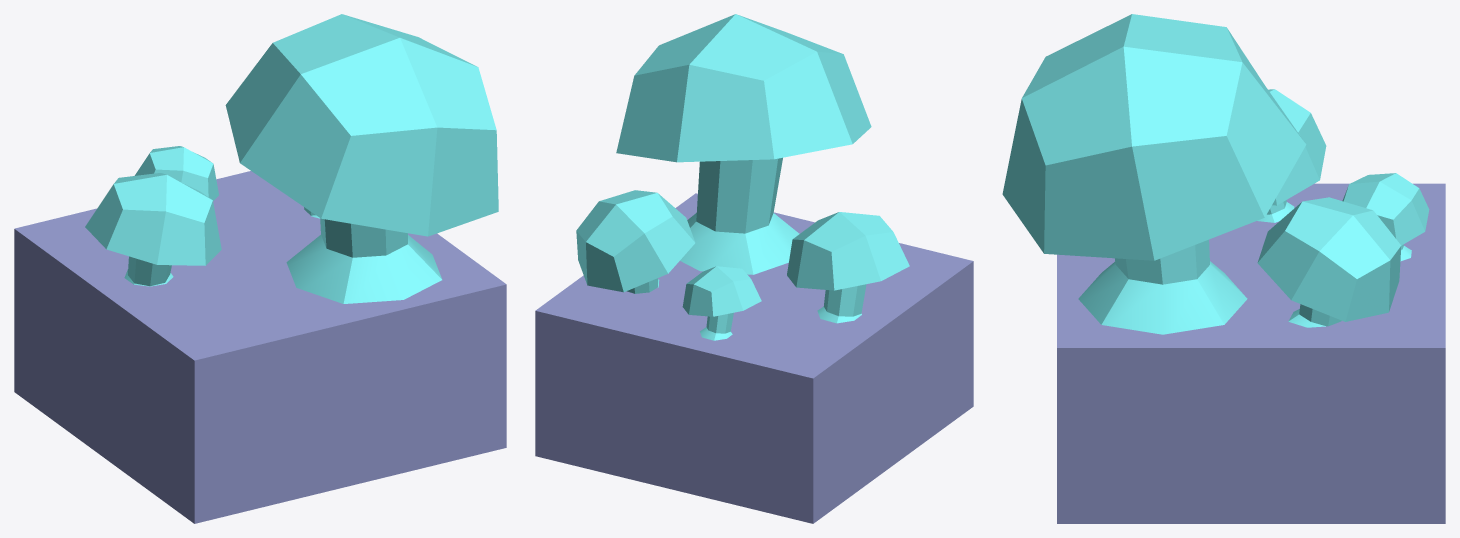
File: mushroomField.fbx
3 views of the same model, side by side, from view 1: azimuth 30°, elevation 25°; view 2: azimuth 150°, elevation 25°; view 3: azimuth 270°, elevation 25° (orthographic). The views are drawn at different scales.
Parts seen in each view (by area): view 1: mushrooms; view 2: mushrooms; view 3: mushrooms.
Part boxes in pixels (left/top/right/bottom): mushrooms: left=14, top=14, right=506, bottom=523; mushrooms: left=535, top=14, right=973, bottom=523; mushrooms: left=1002, top=14, right=1445, bottom=523.
Bounding box in the file's own units: 220 × 248 × 228.
